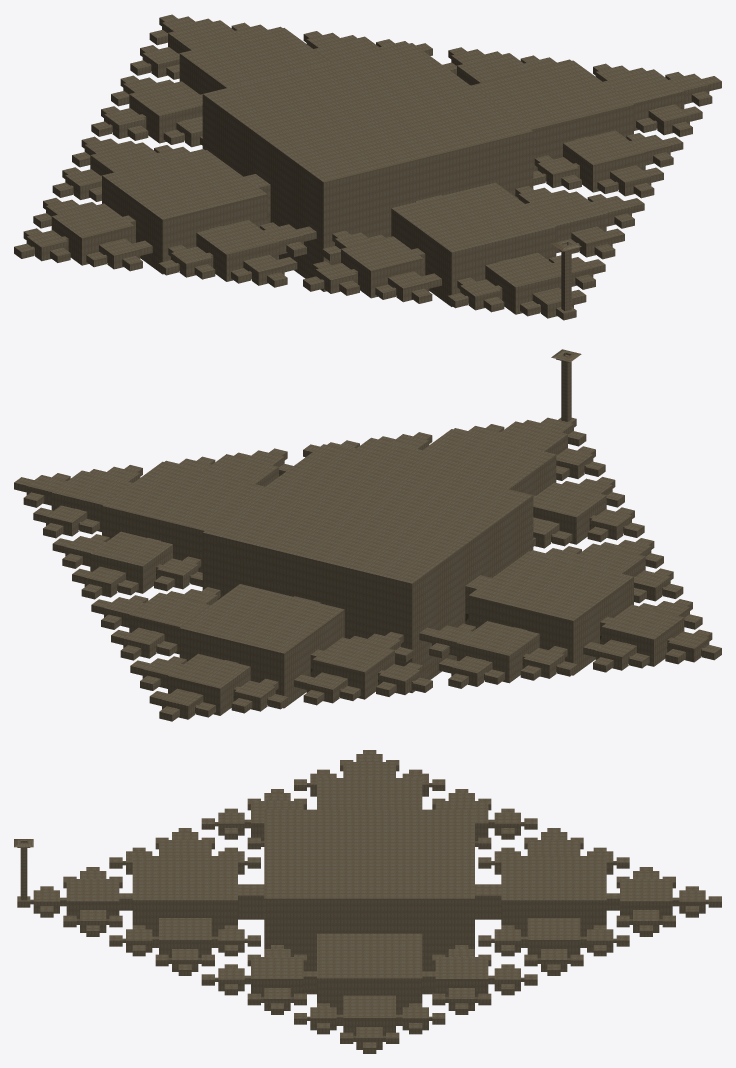
File: Room4.gltf
3 views of the same model, one above another, from view 1: azimuth 30°, elevation 25°; view 2: azimuth 150°, elevation 25°; view 3: azimuth 270°, elevation 25° (orthographic). The views are drawn at different scales.
Visible parts, largest first — view 1: Cube; view 2: Cube; view 3: Cube.
Boxes of the visible parts, bbox=[...] form: Cube: bbox=[14, 14, 721, 320]; Cube: bbox=[14, 349, 721, 721]; Cube: bbox=[14, 750, 721, 1053].
Bounding box in the file's own units: 428 × 72.2 × 430.
1 material, 1 textured.
